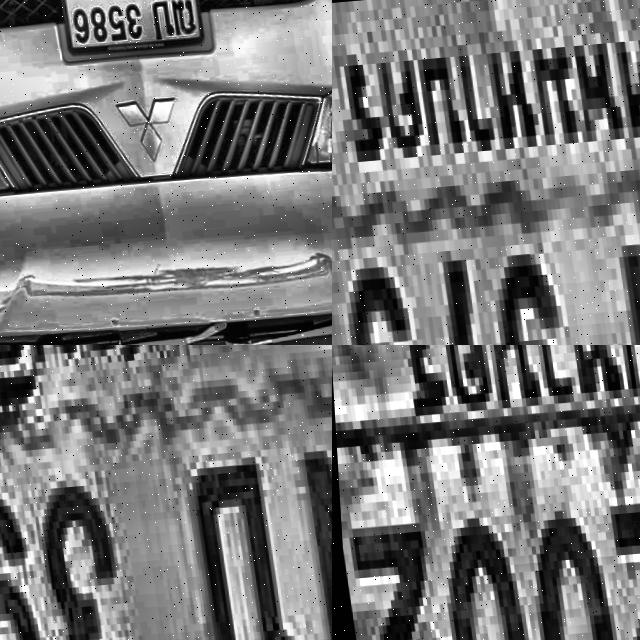license-plate: (332, 0, 640, 345), (0, 345, 332, 640), (332, 345, 640, 640), (51, 0, 206, 60)
